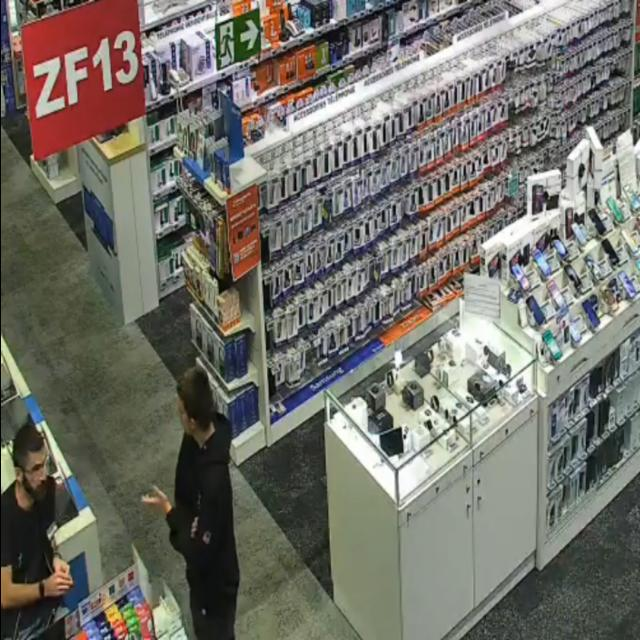hands: (142, 486, 172, 516), (44, 572, 73, 597), (53, 557, 70, 575), (190, 516, 198, 538)
person: (143, 367, 239, 639), (0, 422, 72, 639)
